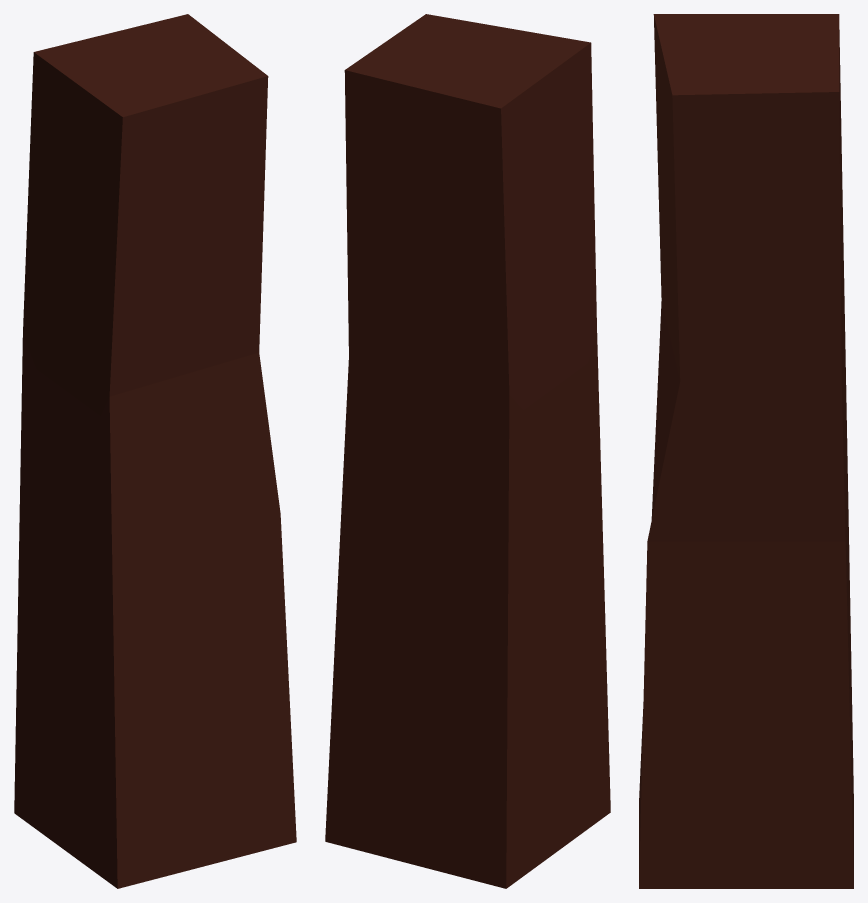
File: treelog_2a.fbx
3 renders of one model, left to right at view 1: azimuth 30°, elevation 25°; view 2: azimuth 150°, elevation 25°; view 3: azimuth 270°, elevation 25°, orthographic. The views are drawn at different scales.
Visible parts, largest first — view 1: treelog_2a; view 2: treelog_2a; view 3: treelog_2a.
Part boxes in pixels (left/top/right/bottom): treelog_2a: left=14, top=14, right=296, bottom=888; treelog_2a: left=325, top=14, right=610, bottom=888; treelog_2a: left=639, top=14, right=853, bottom=888.
Size of the model in its own units: 49.99 by 204 by 50.
